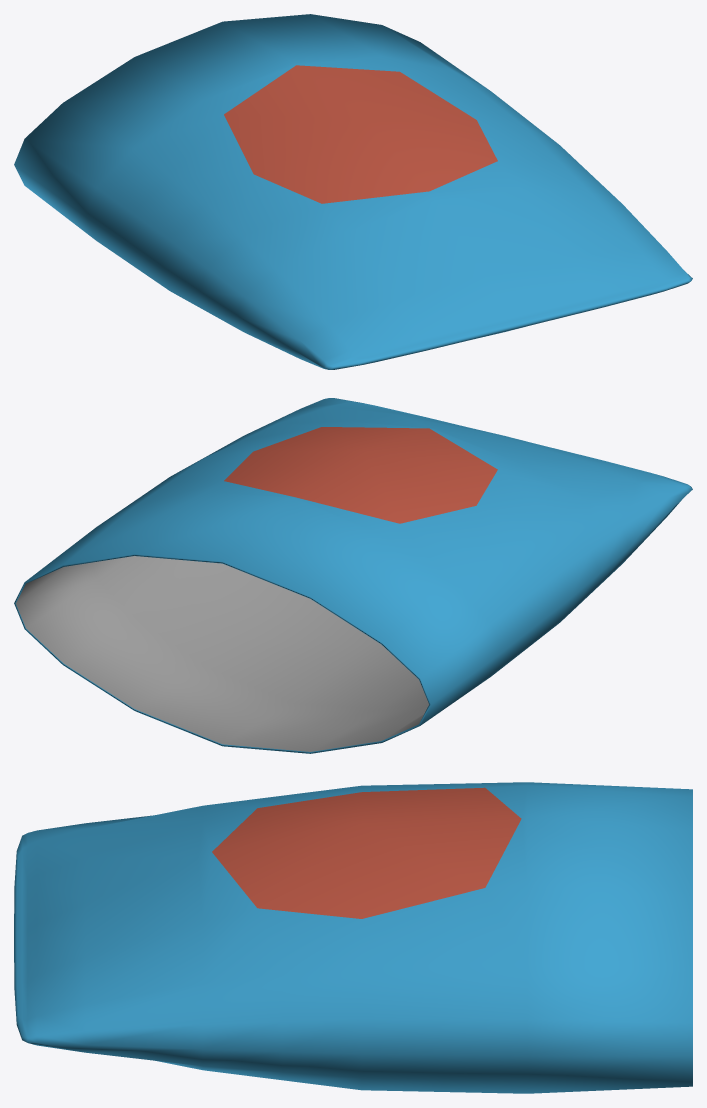
File: Trash-Snack_Bag.fbx
3 views of the same model, one above another, from view 1: azimuth 30°, elevation 25°; view 2: azimuth 150°, elevation 25°; view 3: azimuth 270°, elevation 25° (orthographic). The views are drawn at different scales.
Parts seen in each view (by area): view 1: Tresh-Snack; view 2: Tresh-Snack; view 3: Tresh-Snack.
Part boxes in pixels (x1,y1,x2,y2): Tresh-Snack: (14, 14, 692, 369); Tresh-Snack: (14, 398, 692, 753); Tresh-Snack: (14, 782, 692, 1093).
Bounding box in the file's own units: 105 × 49.69 × 127.
